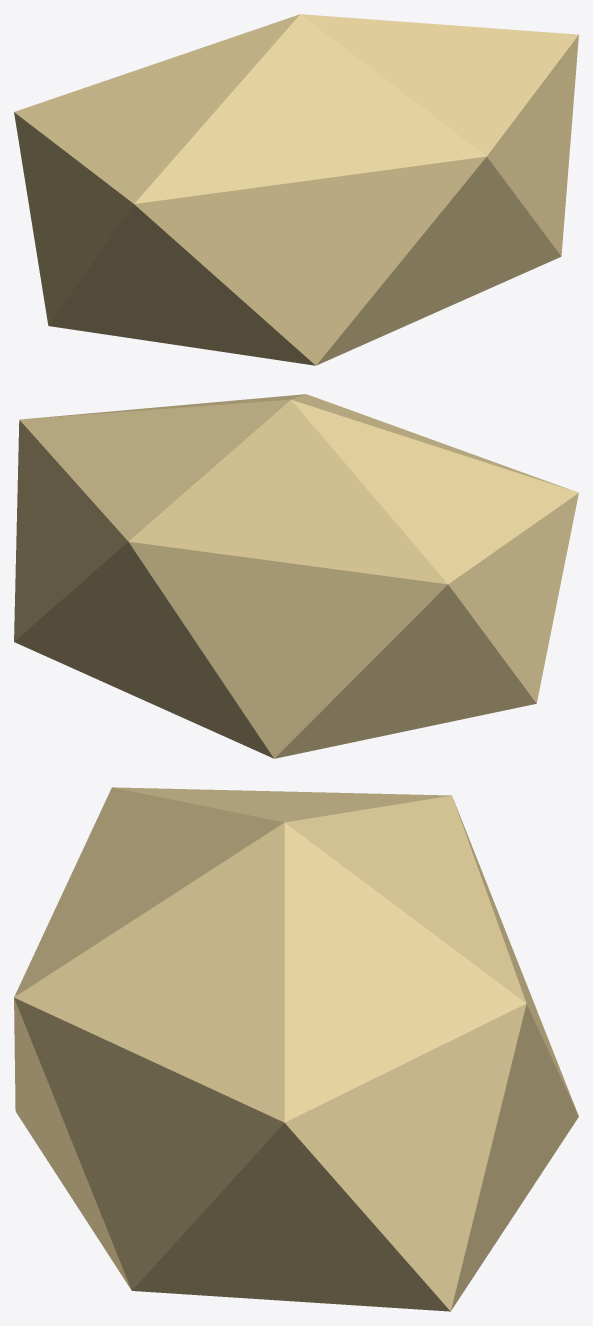
Rendered from item_044_bread_s.glb.
3 views of the same model, one above another, from view 1: azimuth 30°, elevation 25°; view 2: azimuth 150°, elevation 25°; view 3: azimuth 270°, elevation 25° (orthographic). The views are drawn at different scales.
Visible parts, largest first — view 1: item_044_bread_s; view 2: item_044_bread_s; view 3: item_044_bread_s.
Boxes of the visible parts, x1,y1,x2,y2 form: item_044_bread_s: (14, 14, 578, 365); item_044_bread_s: (14, 394, 578, 758); item_044_bread_s: (14, 787, 578, 1311).
Bounding box in the file's own units: 0.3065 × 0.1857 × 0.2112.
